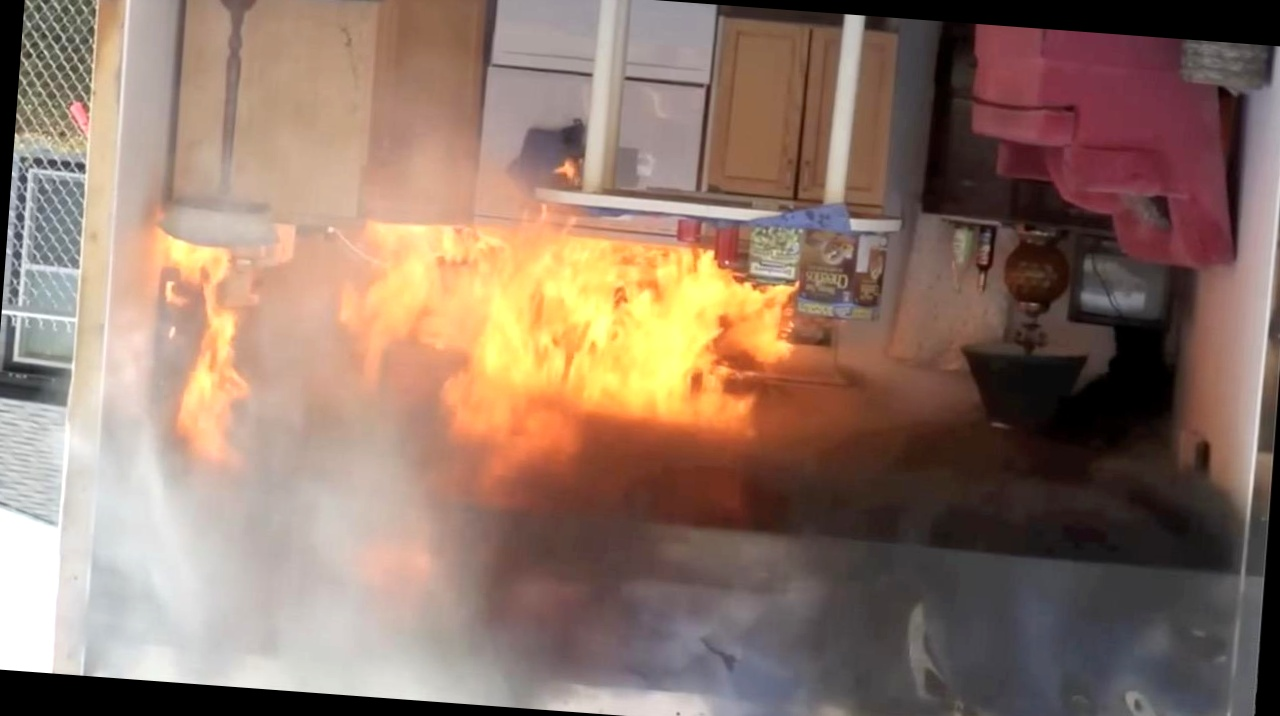fire: (113, 155, 818, 499)
